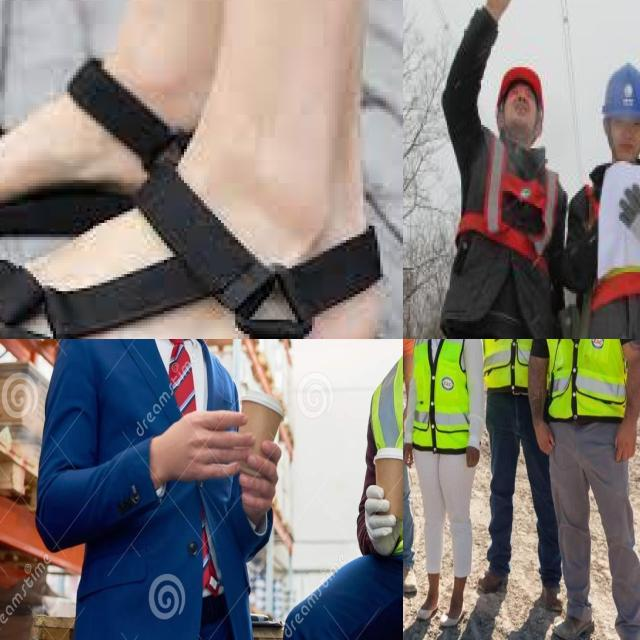Sandals: (0, 150, 394, 339)
face_nomask: (506, 80, 540, 133), (610, 118, 640, 161)
hand_glove: (362, 486, 398, 548), (614, 180, 640, 265)
hand_noglove: (144, 403, 255, 479), (244, 438, 284, 516), (611, 418, 640, 467), (530, 420, 558, 459), (403, 442, 418, 471), (466, 444, 481, 471)
head_helmet: (495, 57, 545, 127), (599, 60, 640, 120)
person: (44, 339, 264, 640), (430, 0, 565, 339), (542, 339, 640, 635), (566, 65, 640, 339), (482, 339, 555, 592), (411, 339, 476, 612)
shoes: (550, 609, 598, 640), (477, 560, 513, 598), (438, 593, 470, 631), (413, 586, 443, 622), (539, 579, 567, 612), (403, 555, 418, 600)
vest: (470, 138, 562, 293), (575, 166, 640, 339), (358, 339, 403, 572), (414, 339, 469, 449), (546, 339, 625, 415), (484, 339, 557, 390)
